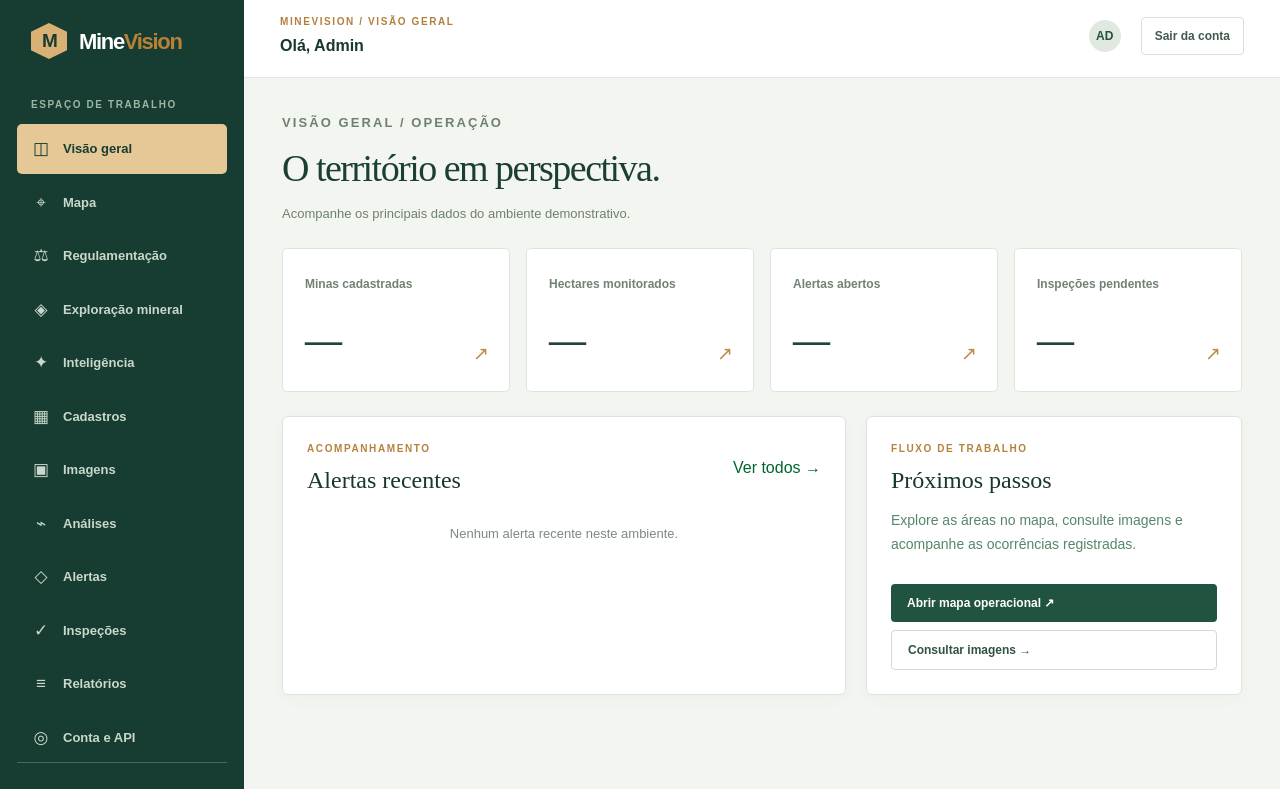
Test: image pagination › loads the next image page and resets to page one when the search changes
Click the button "▣ Imagens" at (122, 470), box [17, 445, 227, 494]
(page scrolled)
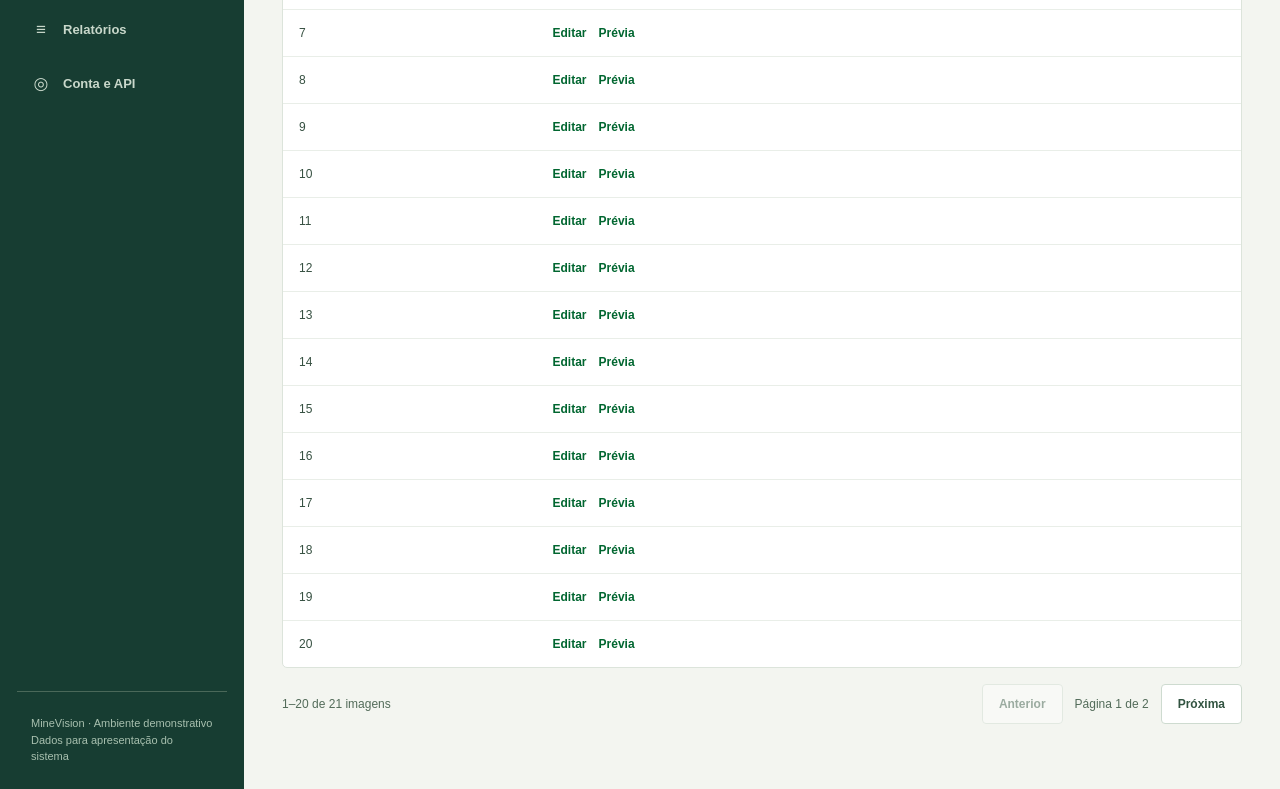
Check: the text "1–20 de 21 imagens" is shown, box [282, 695, 391, 713]
Click the button "Próxima" at (1201, 704), box [1161, 684, 1242, 724]
(page scrolled)
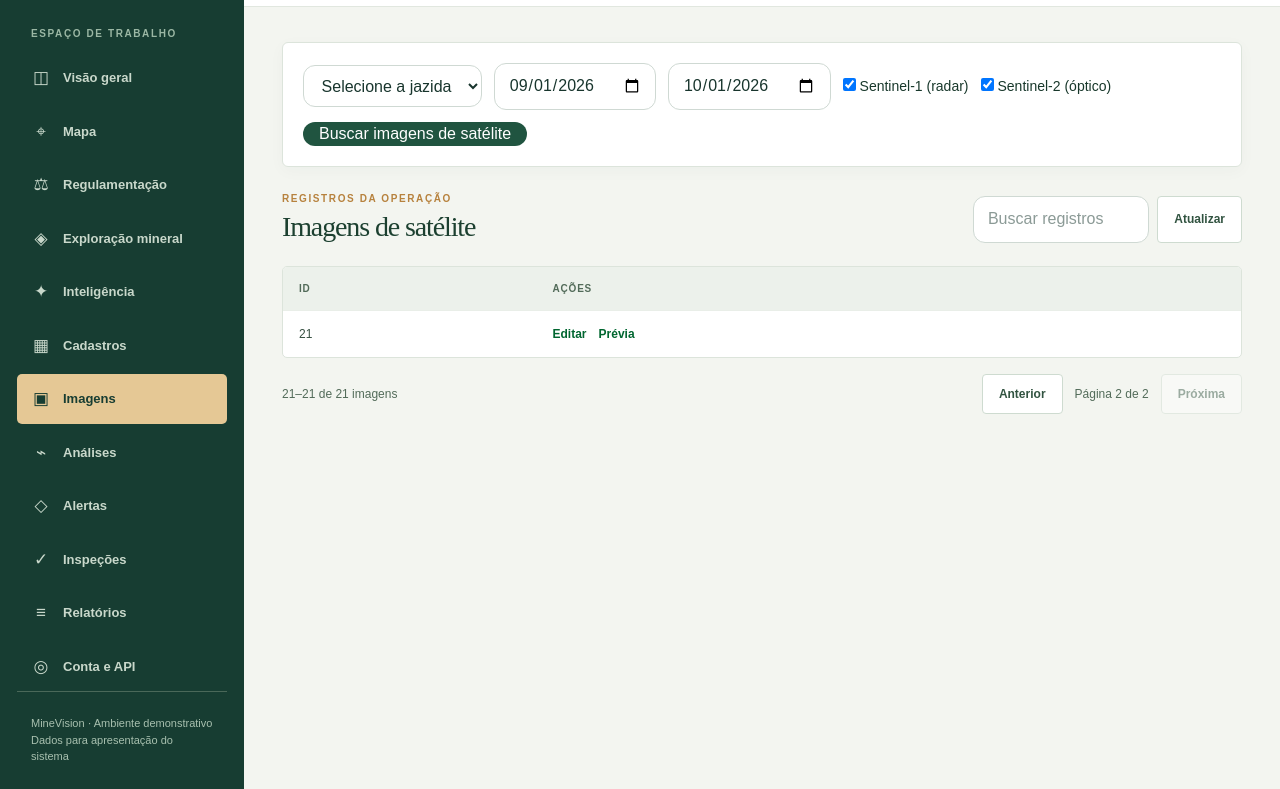
Check: the text "21–21 de 21 imagens" is shown, box [282, 385, 397, 403]
Check: the button "Próxima" is disabled, box [1161, 374, 1242, 414]
Type "nova" into the field labelled "Buscar registros" at (1061, 219), box [973, 196, 1149, 243]
(page scrolled)
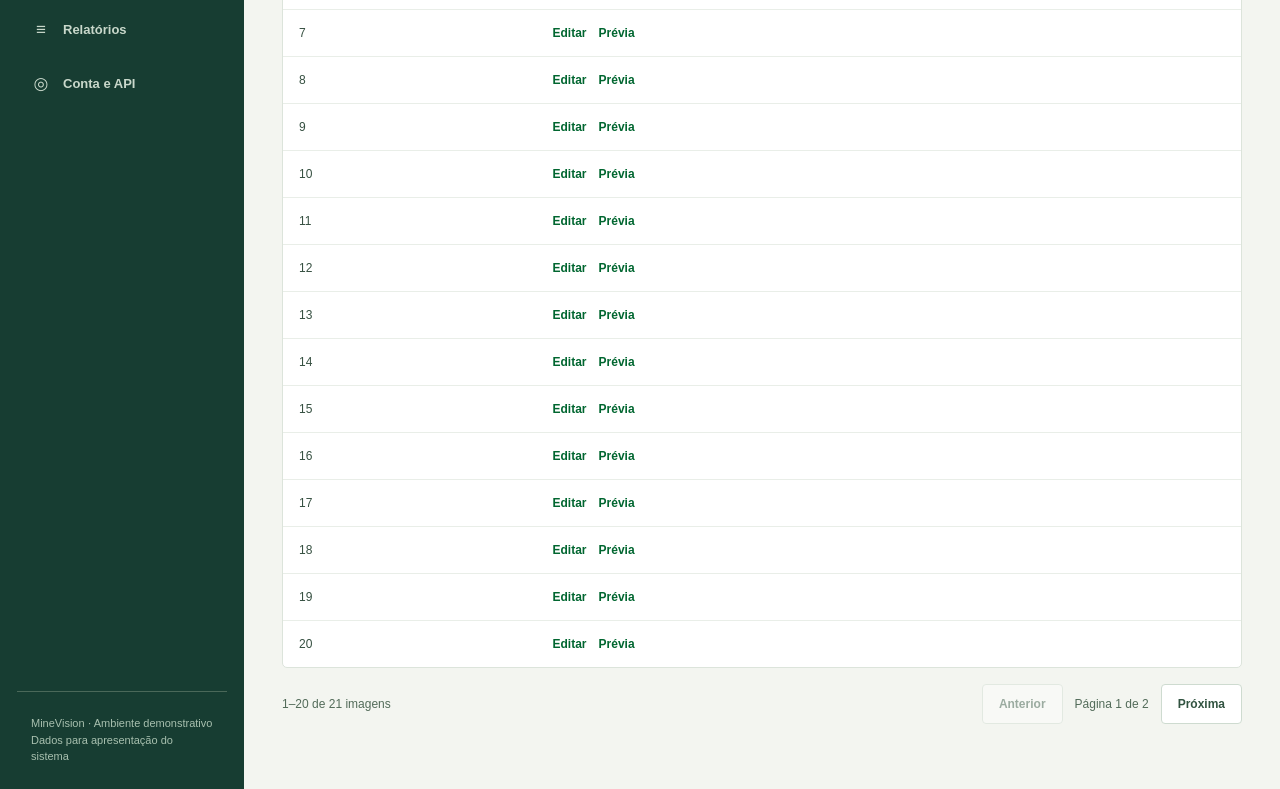
Check: the text "1–20 de 21 imagens" is shown, box [282, 695, 391, 713]
Check: the text "Página 1 de 2" is shown, box [1074, 695, 1149, 713]
